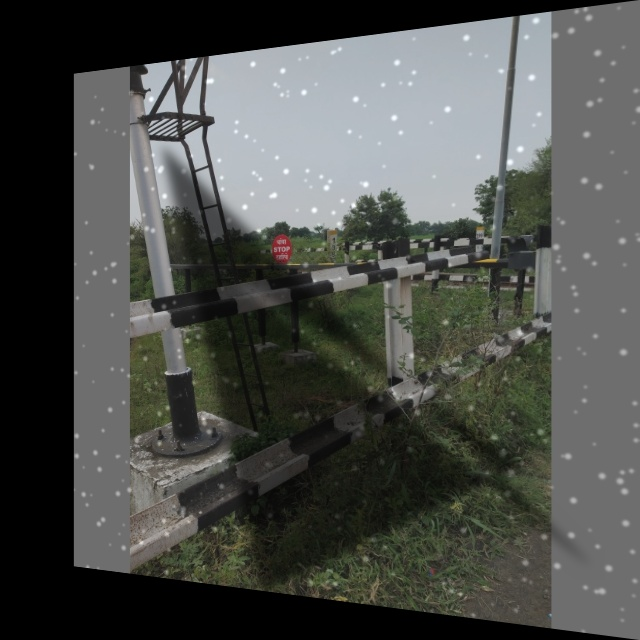Stop: (271, 234, 292, 264)
